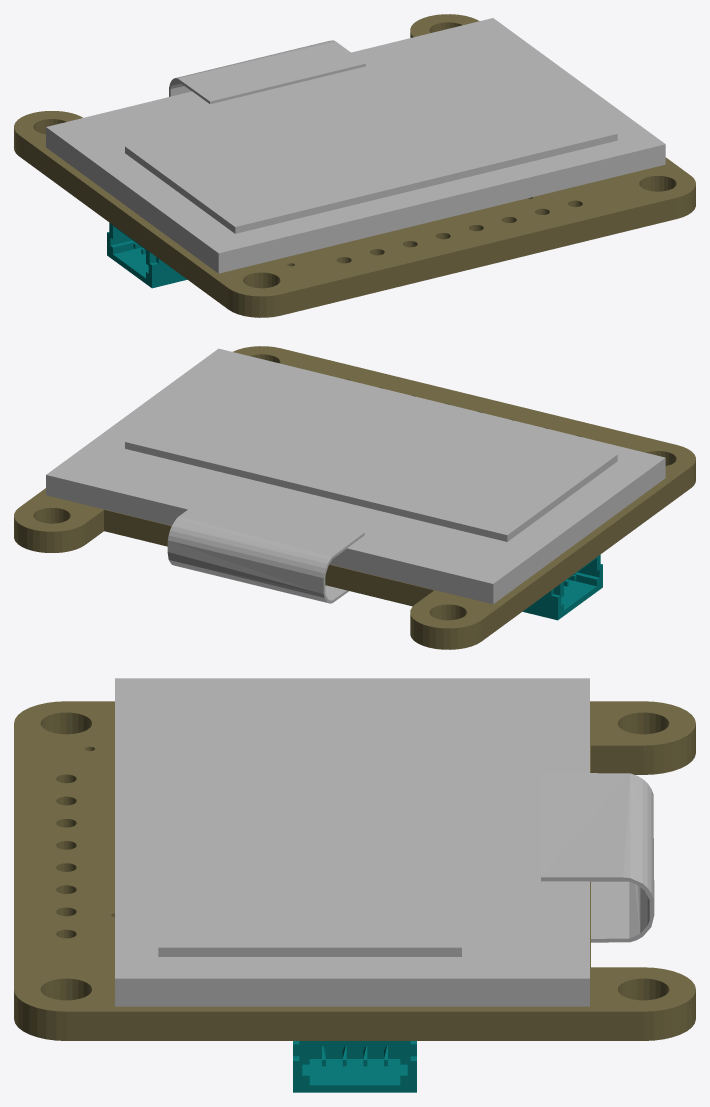
File: adafruit-938-oled-128x64.glb
3 renders of one model, top to bottom at view 1: azimuth 30°, elevation 25°; view 2: azimuth 150°, elevation 25°; view 3: azimuth 270°, elevation 25°, orthographic. The views are drawn at different scales.
Parts seen in each view (by area): view 1: colour 5, colour 1, colour 4; view 2: colour 5, colour 1, colour 4; view 3: colour 5, colour 1, colour 4.
Part boxes in pixels (x1,y1,x2,y2): colour 5: (46,18,665,273); colour 1: (14,14,695,317); colour 4: (107,222,187,288); colour 5: (46,348,665,604); colour 1: (14,346,695,649); colour 4: (522,554,602,620); colour 5: (115,678,654,1006); colour 1: (14,701,695,1040); colour 4: (293,1041,416,1092).
Size of the model in its own units: 0.0356 by 0.00653 by 0.033.
